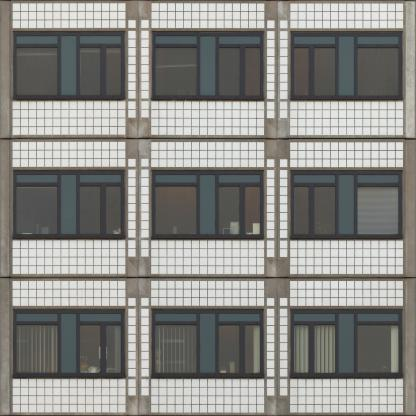Blind: (358, 186, 398, 234), (17, 325, 57, 372), (156, 325, 196, 372), (253, 325, 260, 373), (17, 48, 58, 56), (115, 325, 121, 372), (80, 47, 101, 52), (106, 47, 121, 52)
Building Outline: (0, 0, 416, 416)
Facade: (0, 0, 416, 416)
Floor: (1, 137, 416, 267), (1, 277, 416, 406), (1, 0, 416, 127)
Floor Slab: (1, 405, 416, 416), (1, 266, 416, 277), (1, 127, 416, 137)
Window: (17, 47, 58, 95), (17, 186, 58, 234), (358, 47, 398, 95), (156, 47, 196, 95), (358, 186, 398, 234), (156, 186, 196, 234), (358, 325, 398, 372), (17, 325, 57, 372), (156, 325, 196, 372), (219, 325, 240, 373), (314, 47, 335, 95), (80, 47, 101, 95), (218, 47, 239, 95), (314, 186, 335, 234), (80, 186, 101, 234), (218, 186, 239, 234), (314, 325, 335, 372), (80, 325, 101, 372), (245, 325, 260, 373), (294, 47, 309, 95), (106, 47, 121, 95), (245, 47, 260, 95), (294, 186, 309, 234), (106, 186, 121, 234), (245, 186, 260, 234), (294, 325, 309, 372), (106, 325, 121, 372)
